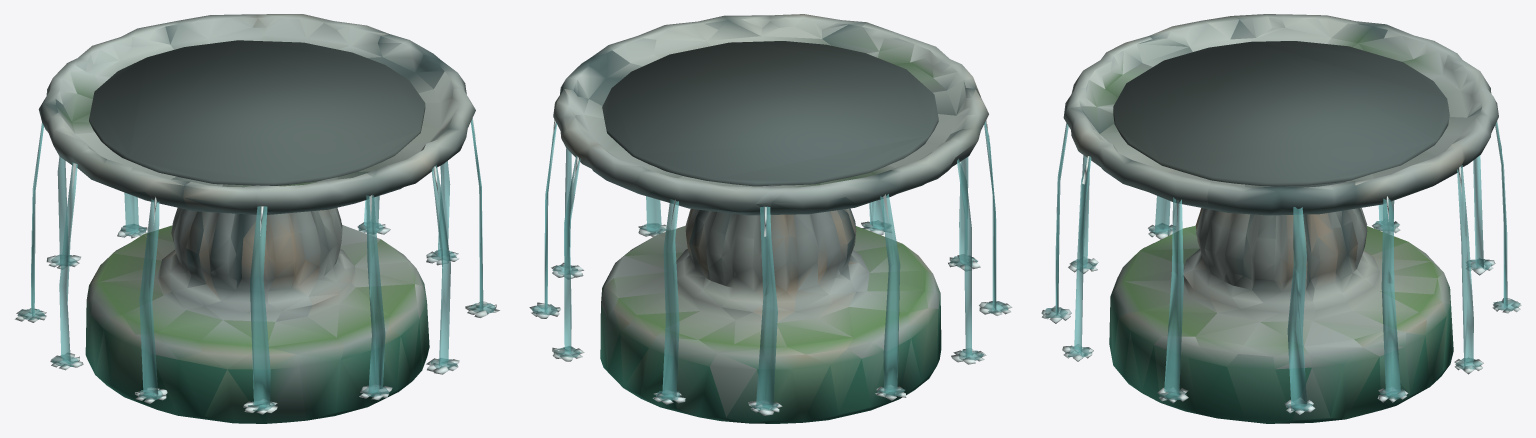
File: grotto_fountain_lod2.glb
3 renders of one model, left to right at view 1: azimuth 30°, elevation 25°; view 2: azimuth 150°, elevation 25°; view 3: azimuth 270°, elevation 25°, orthographic.
Visible parts, largest first — view 1: grotto_fountain.001; view 2: grotto_fountain.001; view 3: grotto_fountain.001.
Boxes of the visible parts, x1,y1,x2,y2 form: grotto_fountain.001: (14,14,499,423); grotto_fountain.001: (529,14,1012,423); grotto_fountain.001: (1041,14,1521,423).
Bounding box in the file's own units: 28.33 × 16.11 × 28.01.
